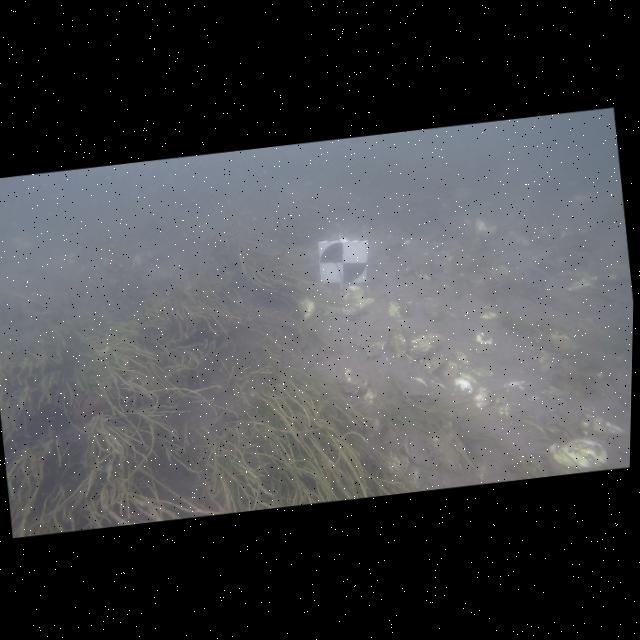Oyster-Closed: (548, 438, 607, 469), (408, 332, 445, 358), (340, 368, 367, 394), (390, 329, 407, 358), (363, 341, 385, 356)
Oyster-Indeterminate: (472, 332, 496, 355), (419, 354, 445, 374), (453, 373, 476, 395), (363, 387, 382, 410), (386, 299, 402, 323), (424, 297, 441, 319), (494, 396, 510, 419), (473, 387, 490, 408), (342, 286, 364, 302)
Oyster-Open: (337, 297, 375, 322), (400, 430, 418, 465), (403, 377, 428, 397), (402, 300, 411, 317)
